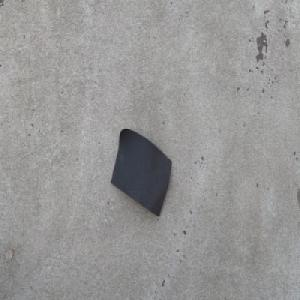PaintChip: (109, 128, 172, 220)
